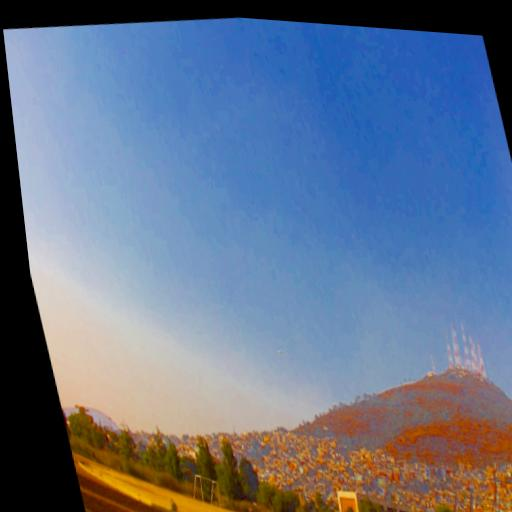drones: (276, 348, 284, 357)
